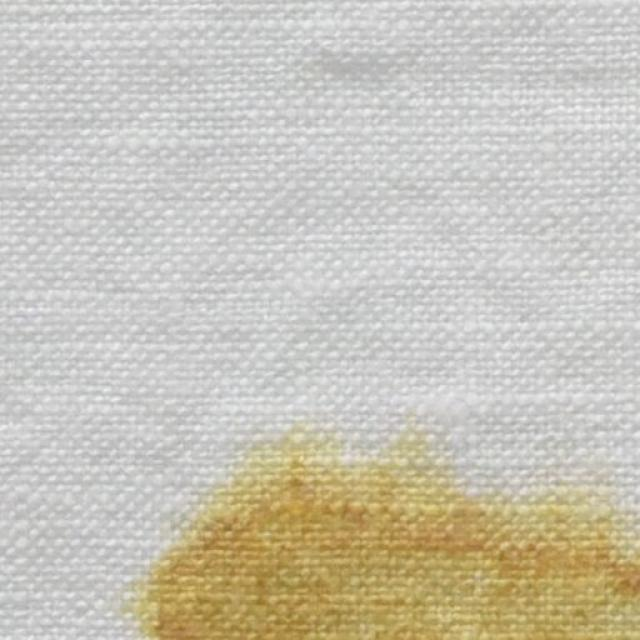Stain: (135, 428, 640, 640)
